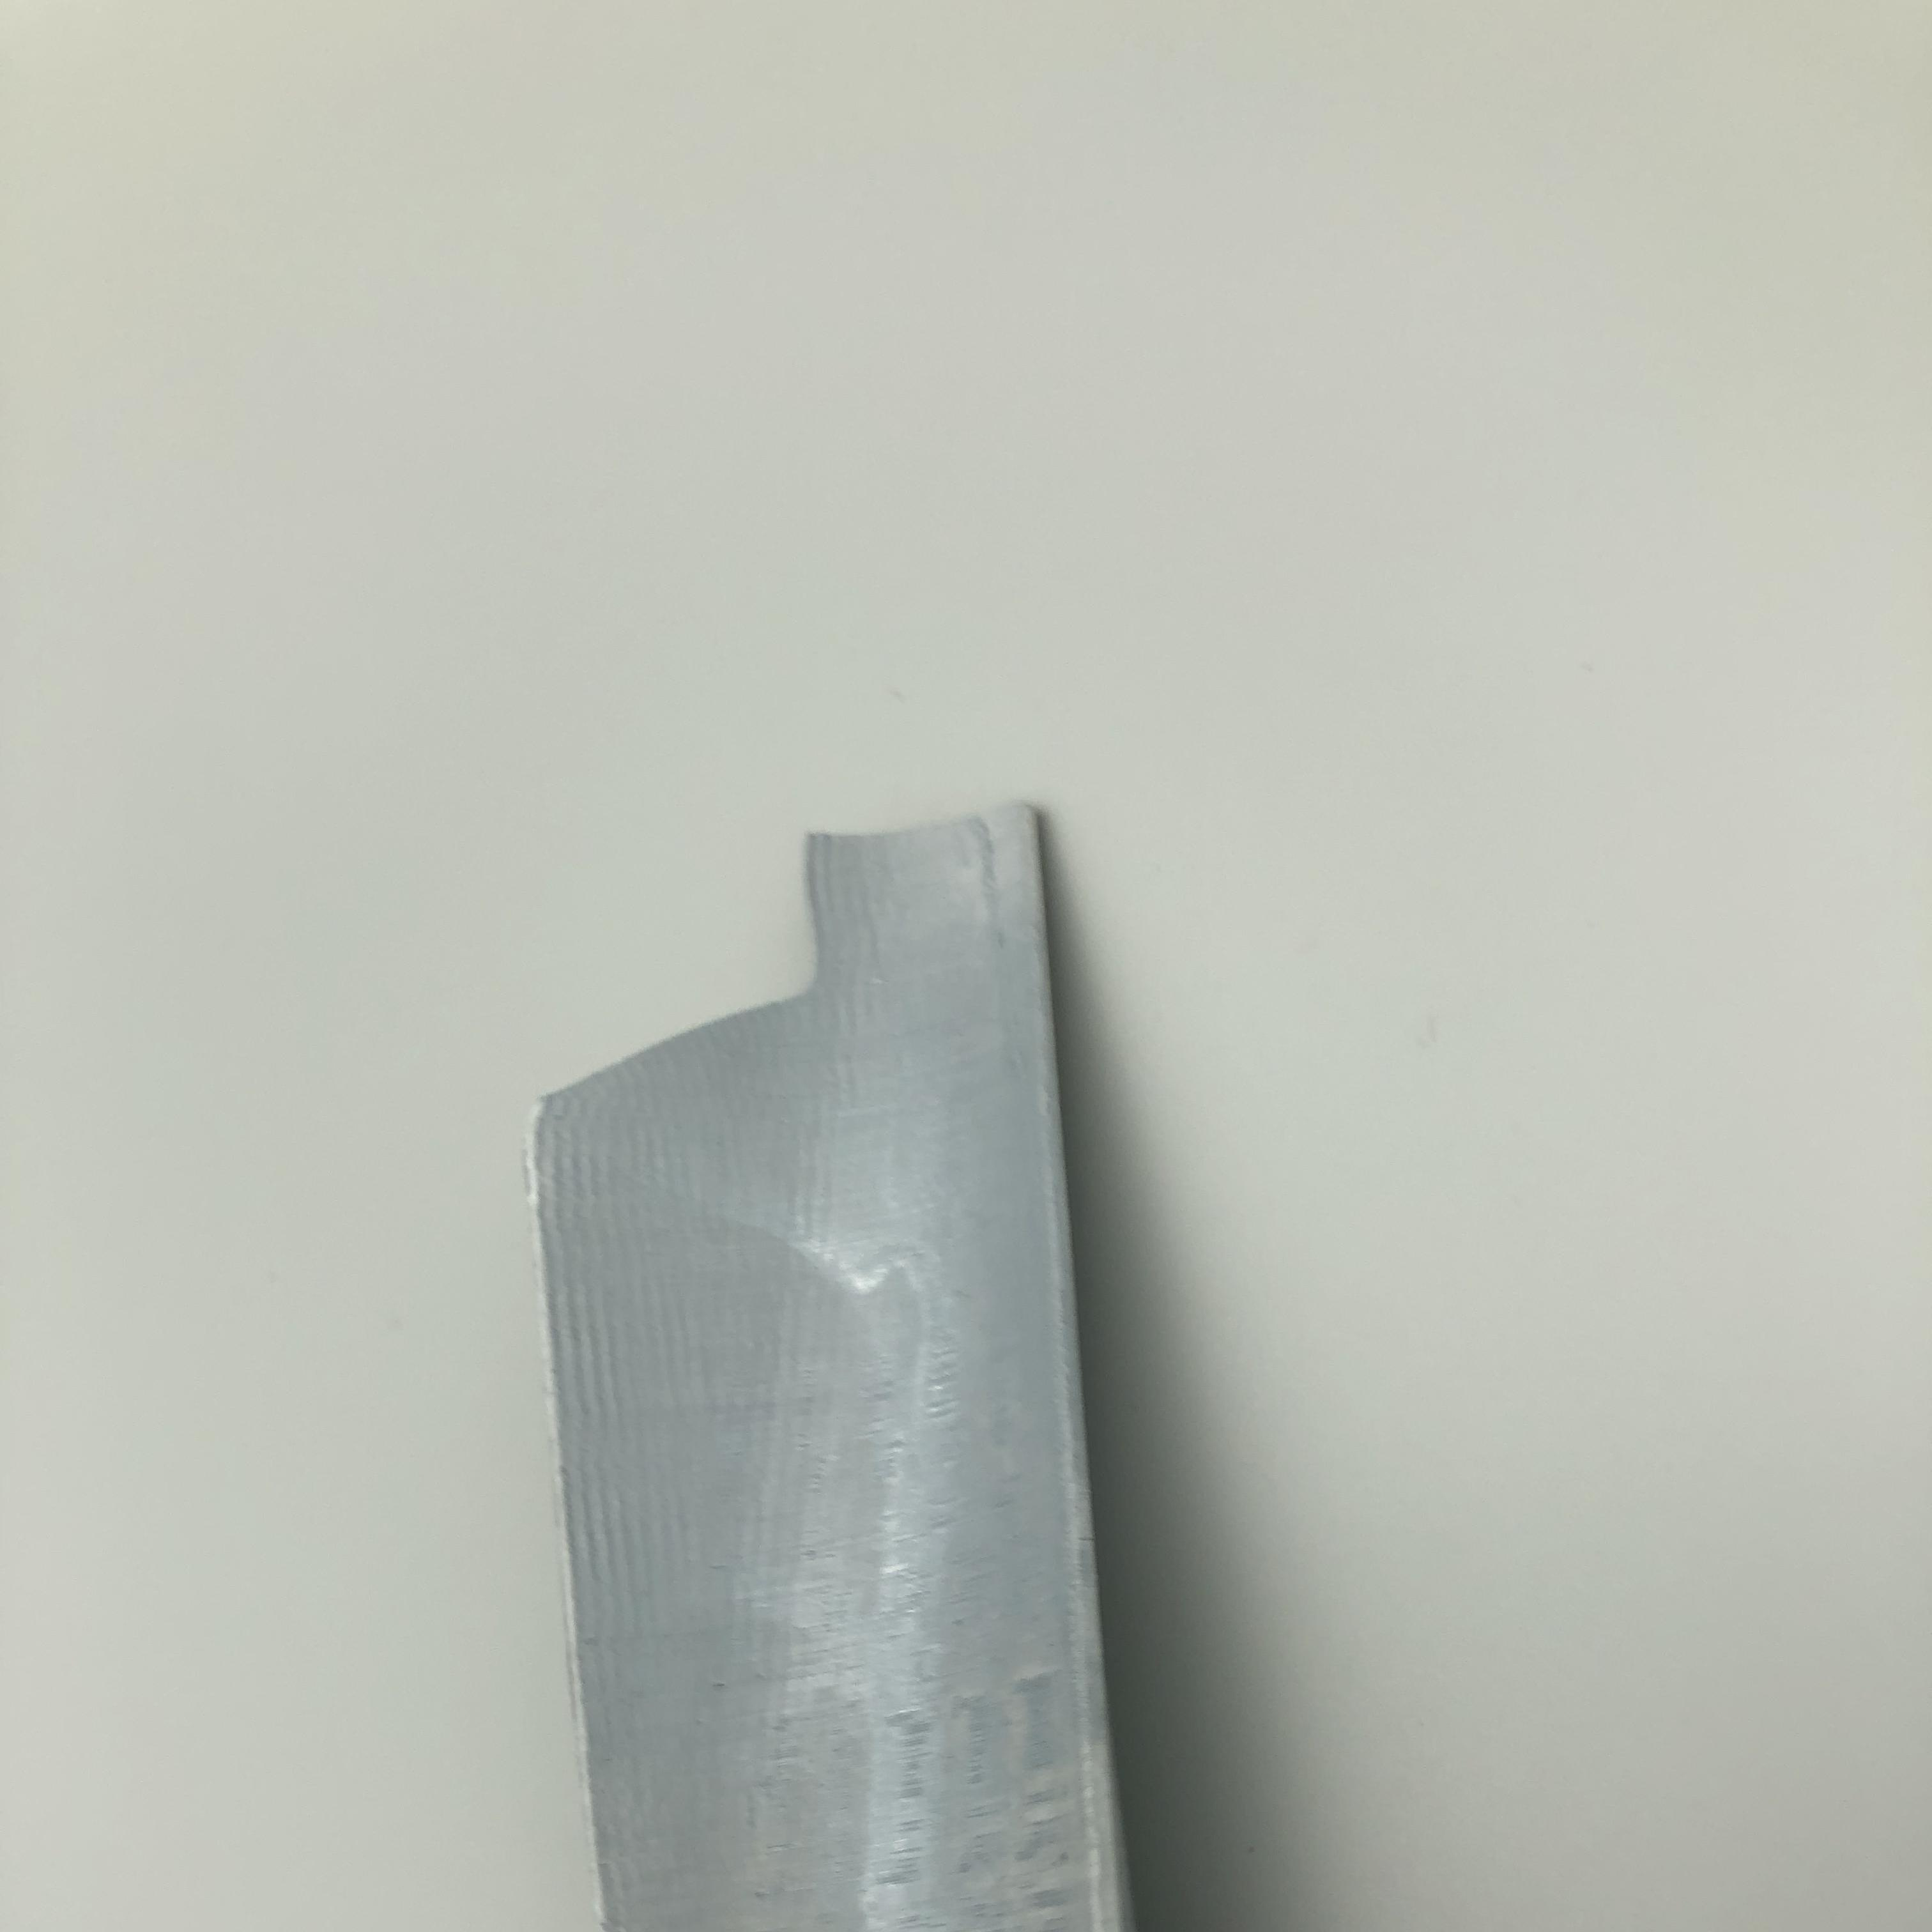fracture: (573, 862, 876, 1102)
